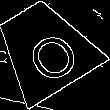O_NW: (11, 16, 78, 82)
